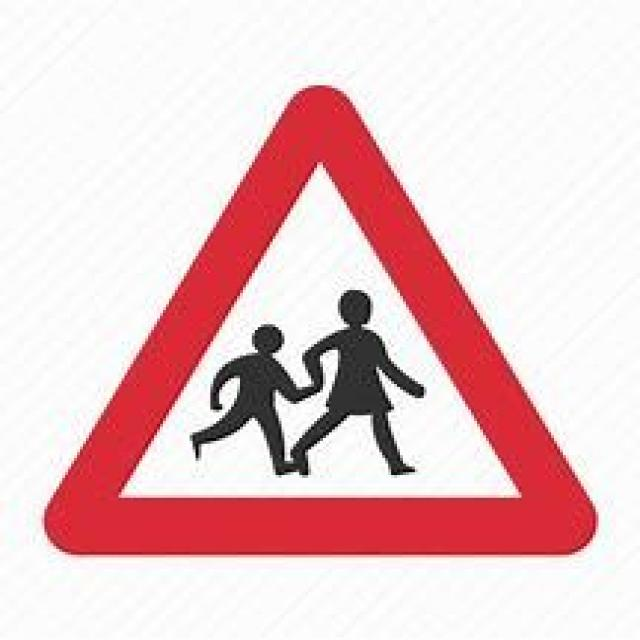SCHOOL_AHEAD: (38, 82, 596, 554)
